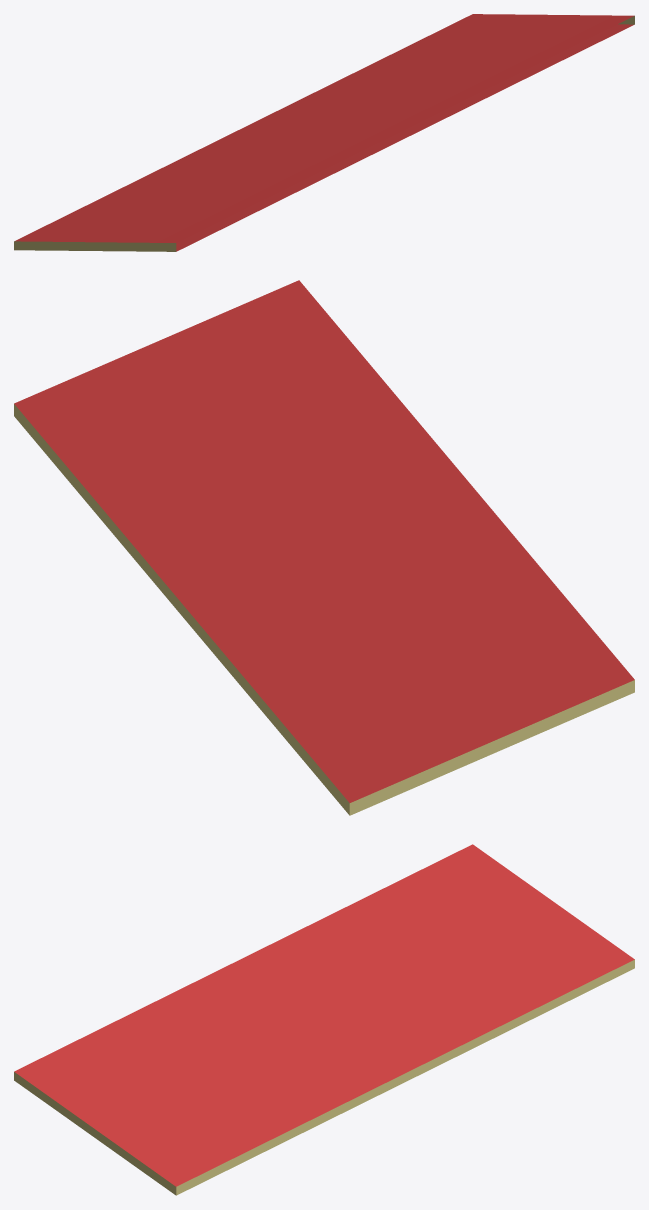
3 renders of one model, top to bottom at view 1: azimuth 90°, elevation 25°; view 2: azimuth 150°, elevation 25°; view 3: azimuth 270°, elevation 25°, orthographic. The views are drawn at different scales.
Size of the model in its own units: 6.92 by 6.35 by 0.741.
